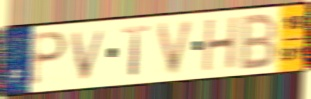B: (238, 11, 279, 72)
H: (200, 14, 241, 75)
P: (29, 30, 69, 87)
T: (121, 24, 152, 78)
V: (155, 17, 198, 77), (70, 27, 110, 83)
